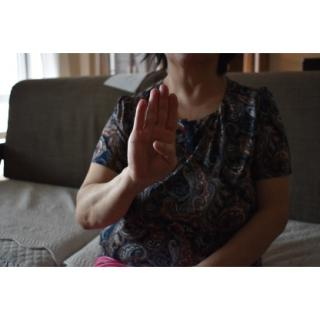KAAF: (122, 81, 183, 196)
